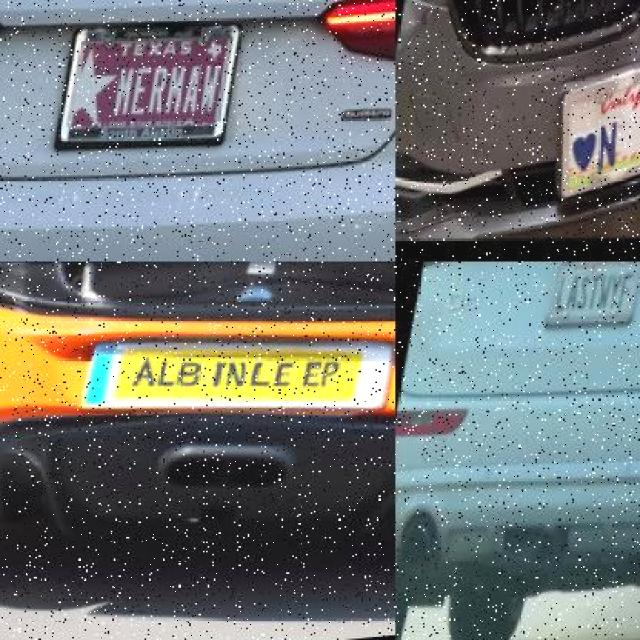licenseplate: (61, 32, 250, 156), (89, 345, 395, 419), (572, 76, 640, 209), (551, 262, 640, 336)
